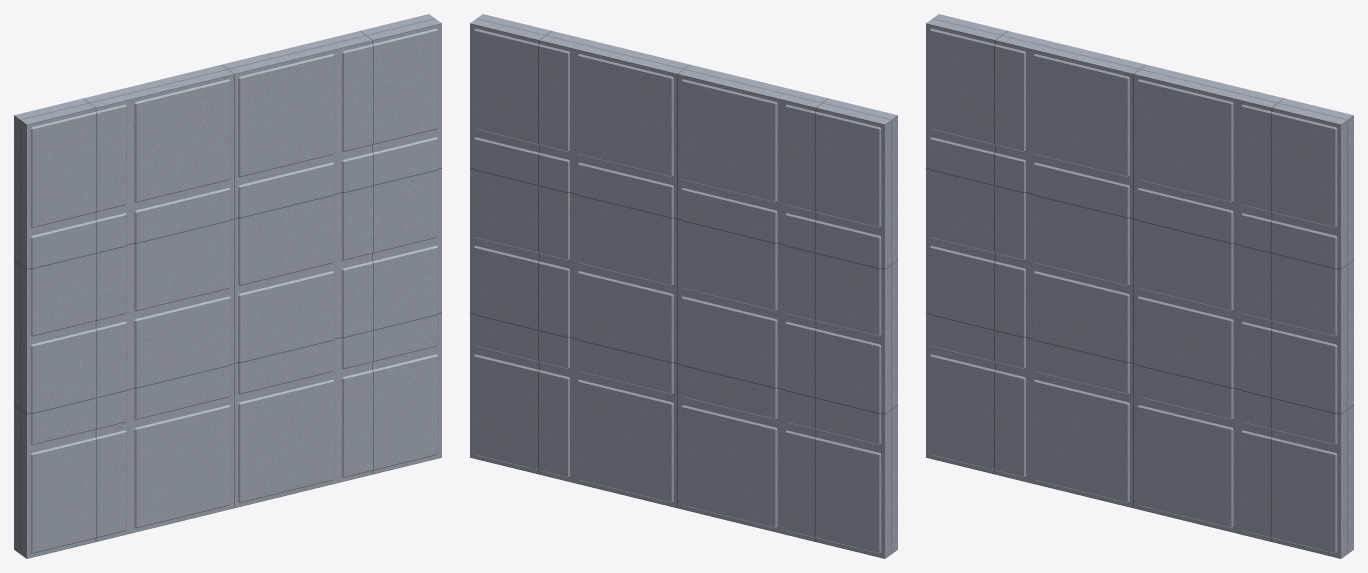
Rendered from Kit_Steel_Wall.fbx.
3 views of the same model, side by side, from view 1: azimuth 30°, elevation 25°; view 2: azimuth 150°, elevation 25°; view 3: azimuth 330°, elevation 25° (orthographic).
Visible parts, largest first — view 1: Kit_Steel_Wall_LOD0; view 2: Kit_Steel_Wall_LOD0; view 3: Kit_Steel_Wall_LOD0.
Part boxes in pixels (box(x1,y1,x2,y2)): Kit_Steel_Wall_LOD0: box(14, 14, 441, 558); Kit_Steel_Wall_LOD0: box(470, 14, 897, 558); Kit_Steel_Wall_LOD0: box(926, 14, 1353, 558).
Size of what is drawn, in the model's own units: 3 by 3 by 0.18.
